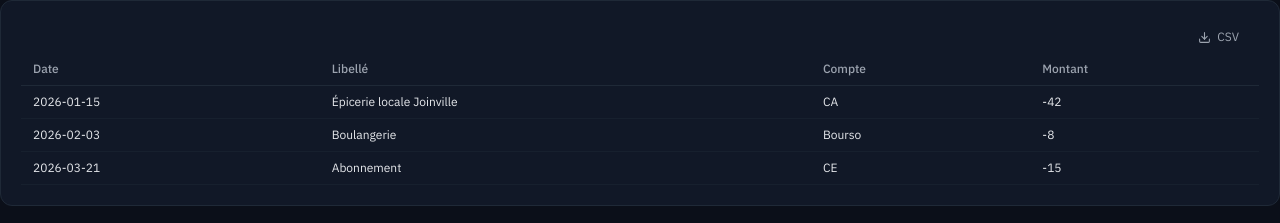
Test: DataTable — rendu desktop inchangé › trie toujours au clic sur l'en-tête
Click the column heading "Libellé".
click(350, 68)  # box top-left (320, 53), bottom-right (811, 86)
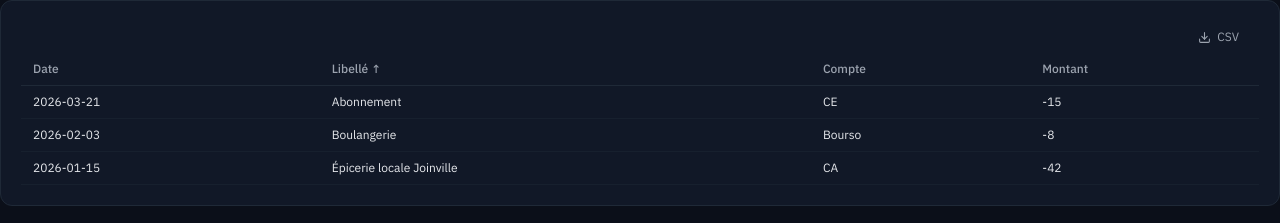
Now the cell "Abonnement" is shown, box top-left (320, 86), bottom-right (811, 118)
